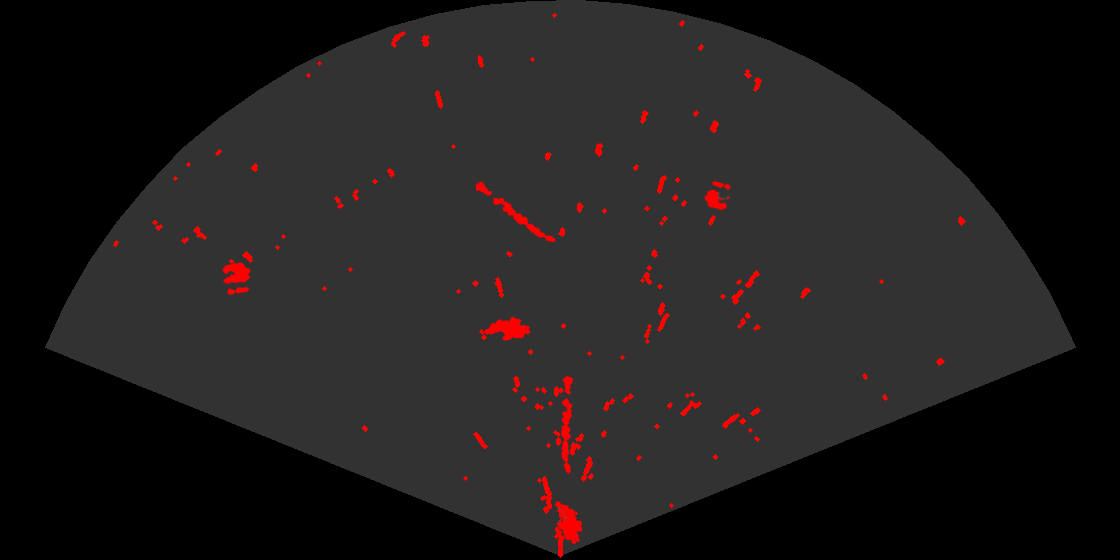AUV: (553, 499, 584, 546), (482, 315, 532, 342)
ball: (221, 261, 252, 296), (703, 179, 733, 212)
chain: (474, 180, 557, 244), (559, 373, 575, 474)
